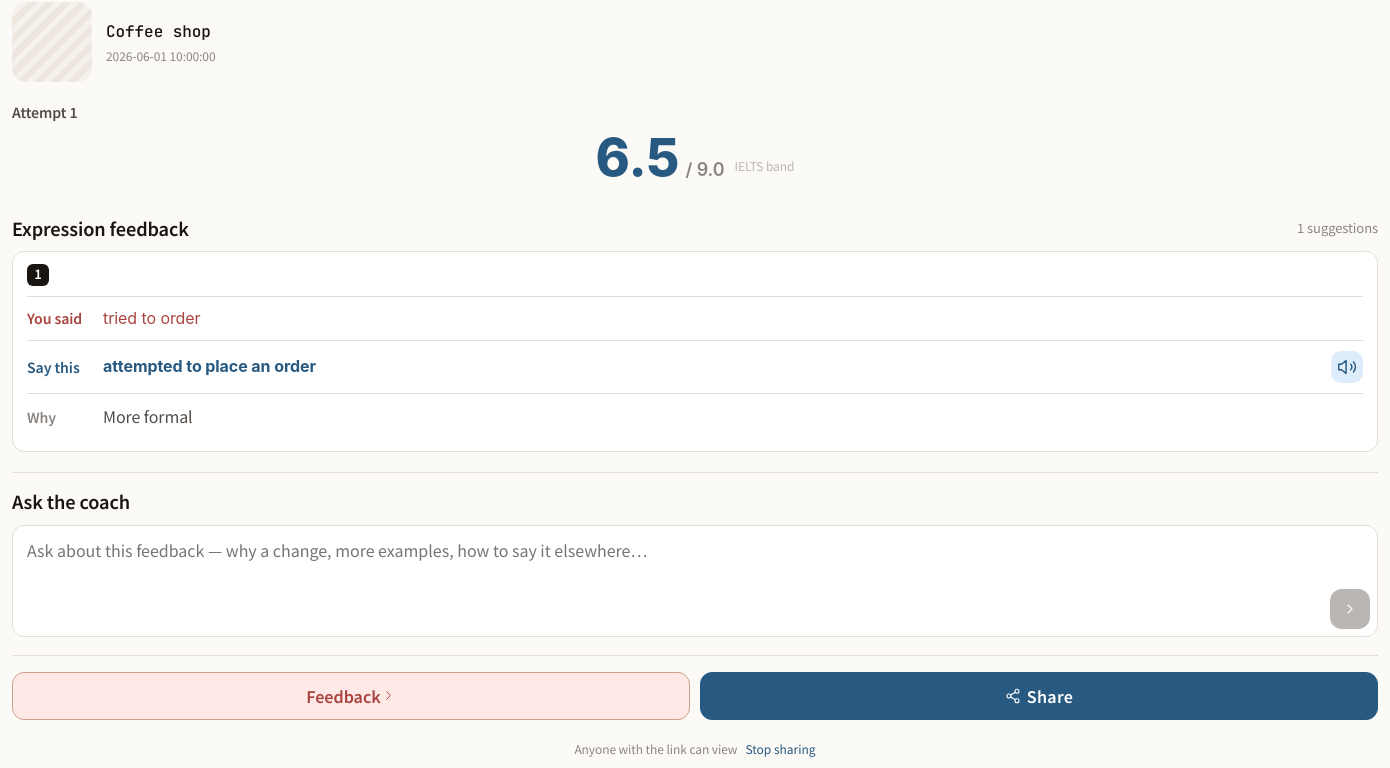
Scenario: SessionDetailPage › renders Shared state for an already-shared session and stops sharing
(page scrolled)
Check: the text "Anyone with the link can view" is shown, box [574,742,737,758]
Click the button "Stop sharing": click(780, 750) [745,742,816,758]
(page scrolled)
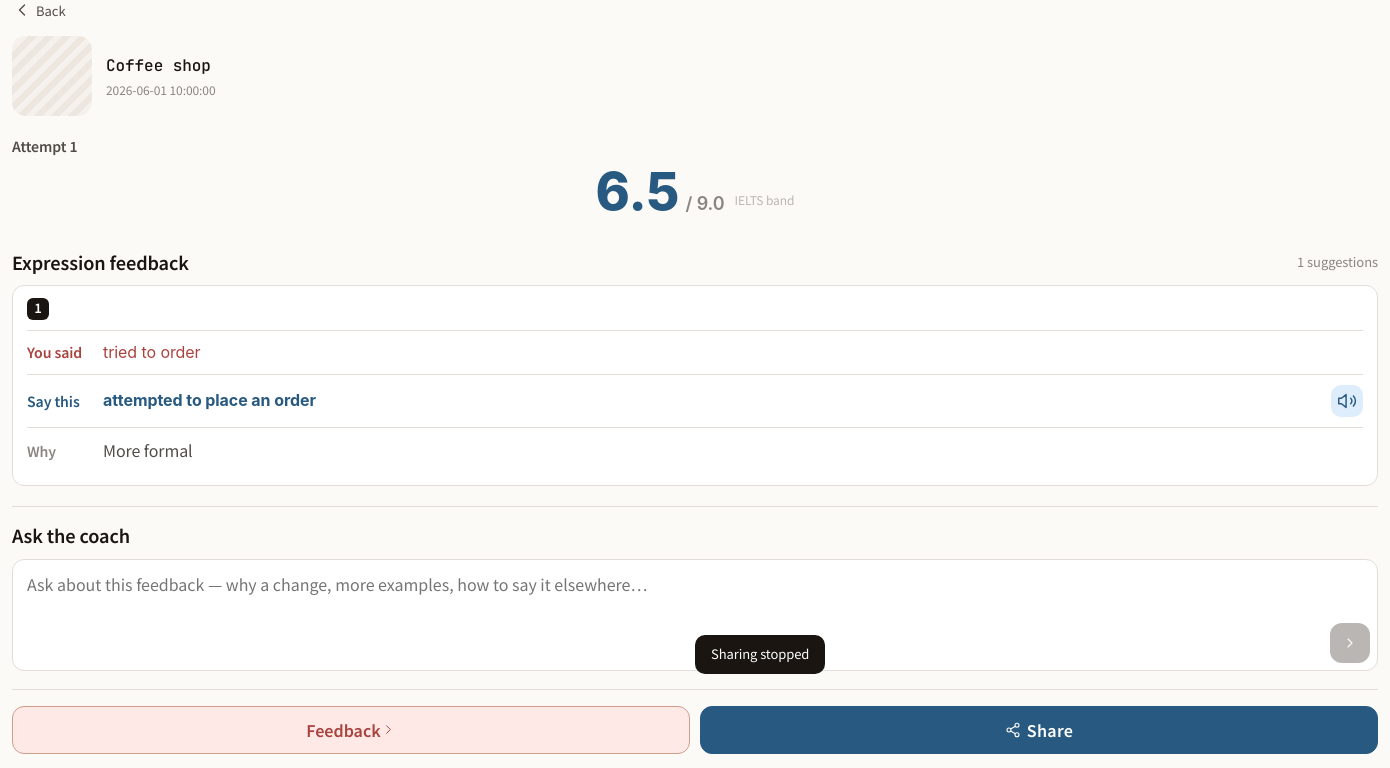
Check: the text "Anyone with the link can view" is gone
Check: the button "Stop sharing" is gone
